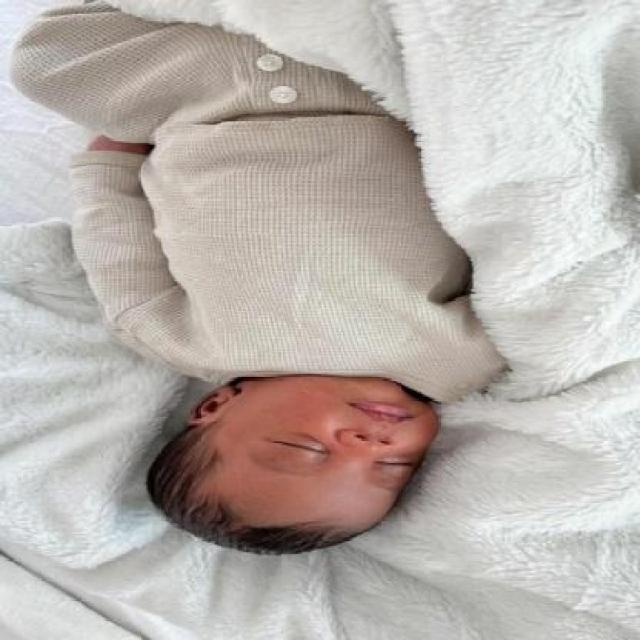baby: (8, 3, 506, 560)
